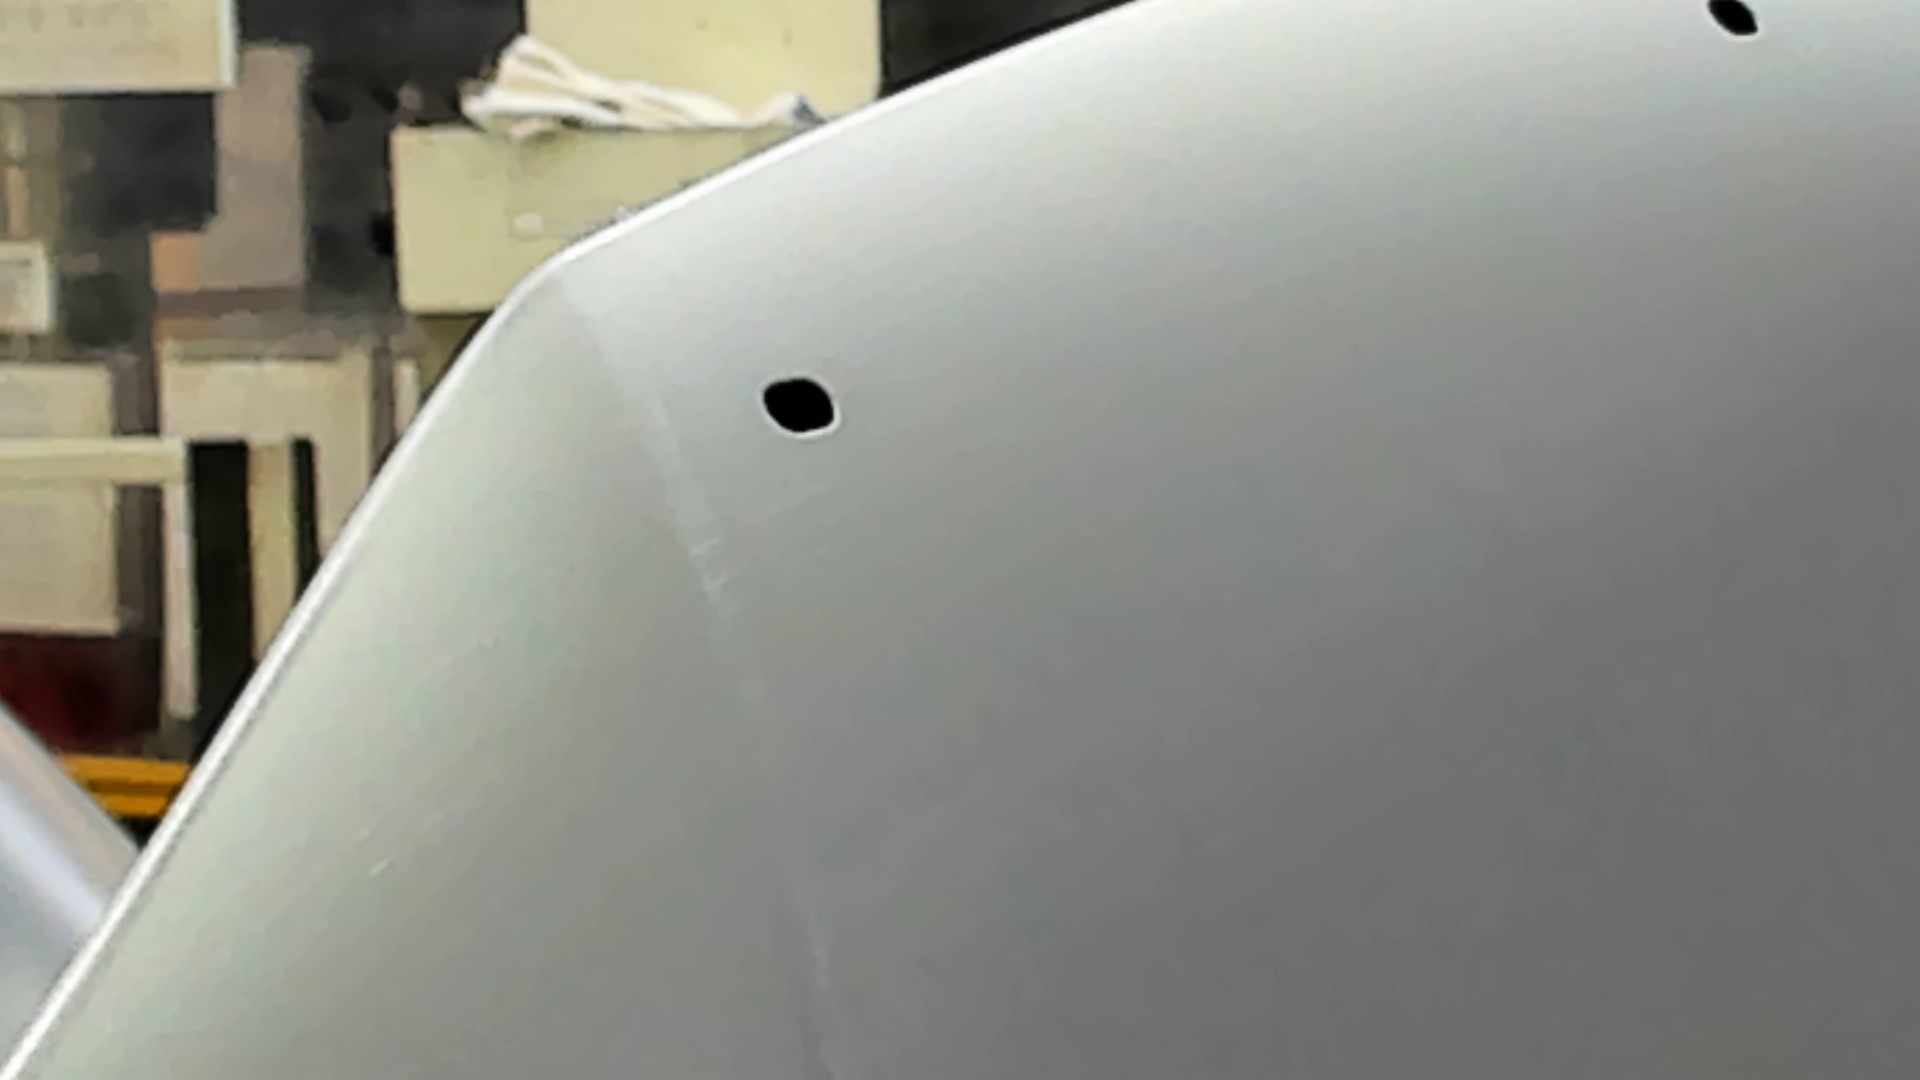amorfo: (756, 372, 851, 436), (1705, 1, 1766, 44)
